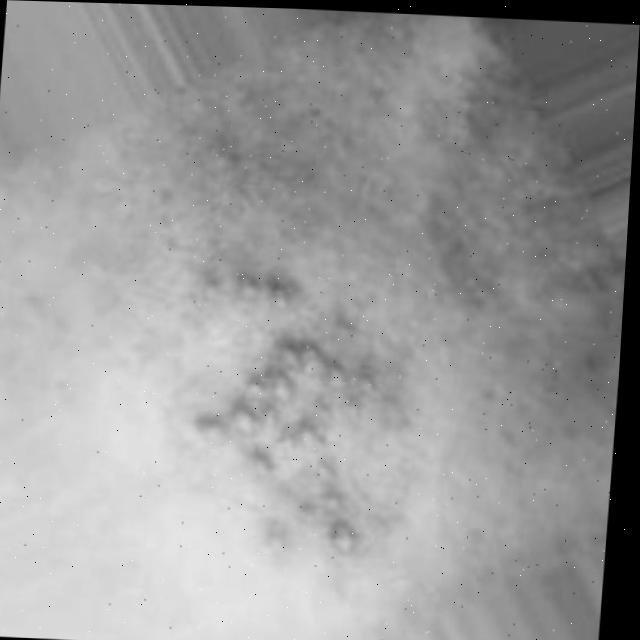Shingles: (194, 266, 388, 570)
